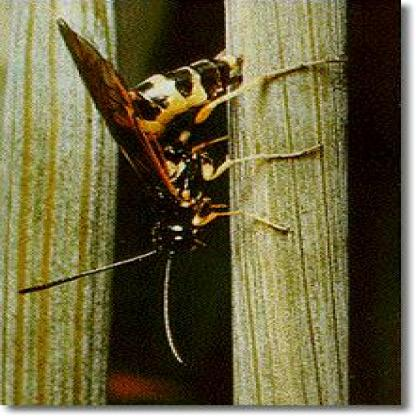sawfly: (19, 8, 356, 375)
